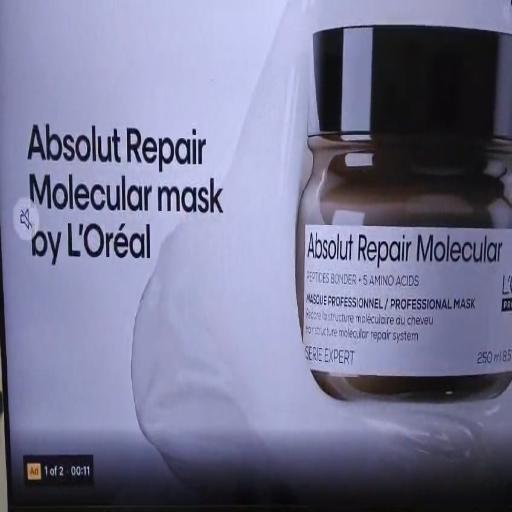ad label: (26, 463, 43, 483)
